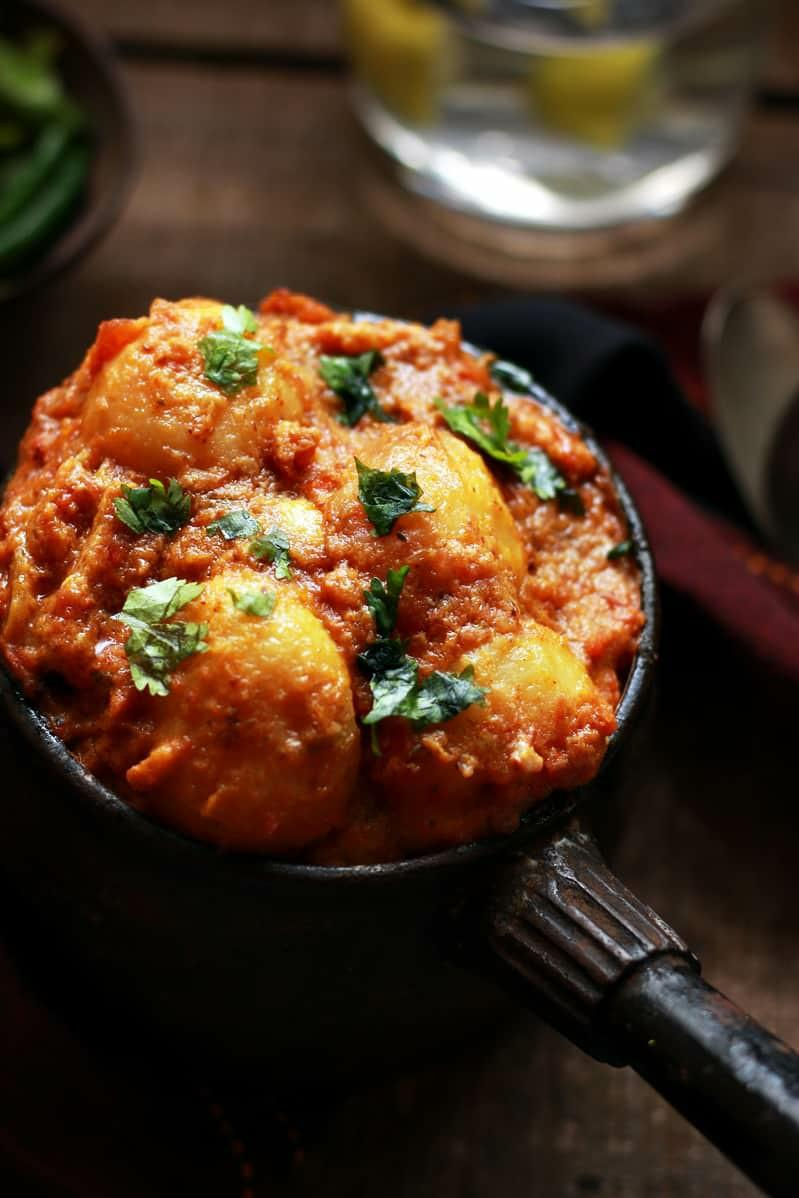DumAloo: (0, 284, 653, 873)
